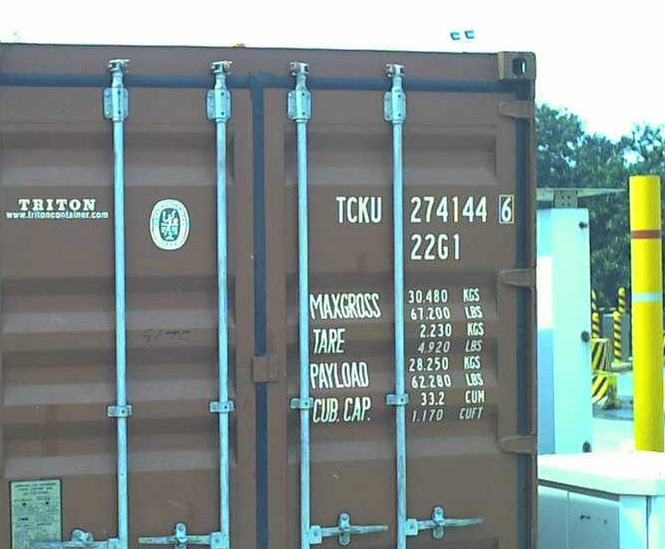container_door: (4, 40, 543, 549)
